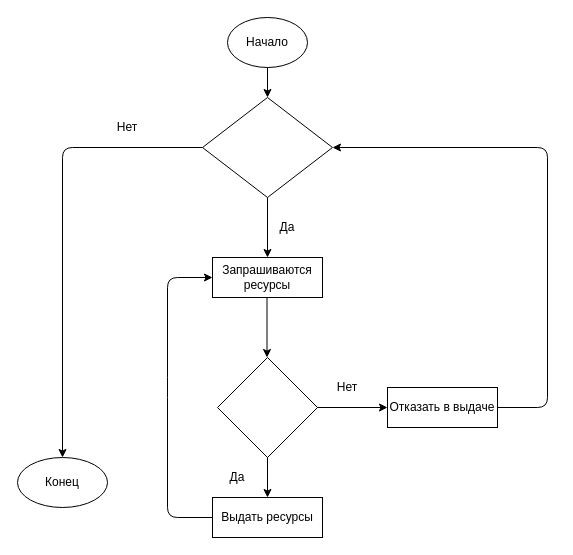
The diagram is 573 pixels wide and 555 high, and some of its shapes have lost their labels. The shapes that lost their labels are listed below. From the top down, each one's box as (x1, y1, x2, y2) in pixels, then its label:
(202, 96, 332, 198): Есть ожидающие процессы?
(216, 356, 318, 458): Состояние безопасное?
